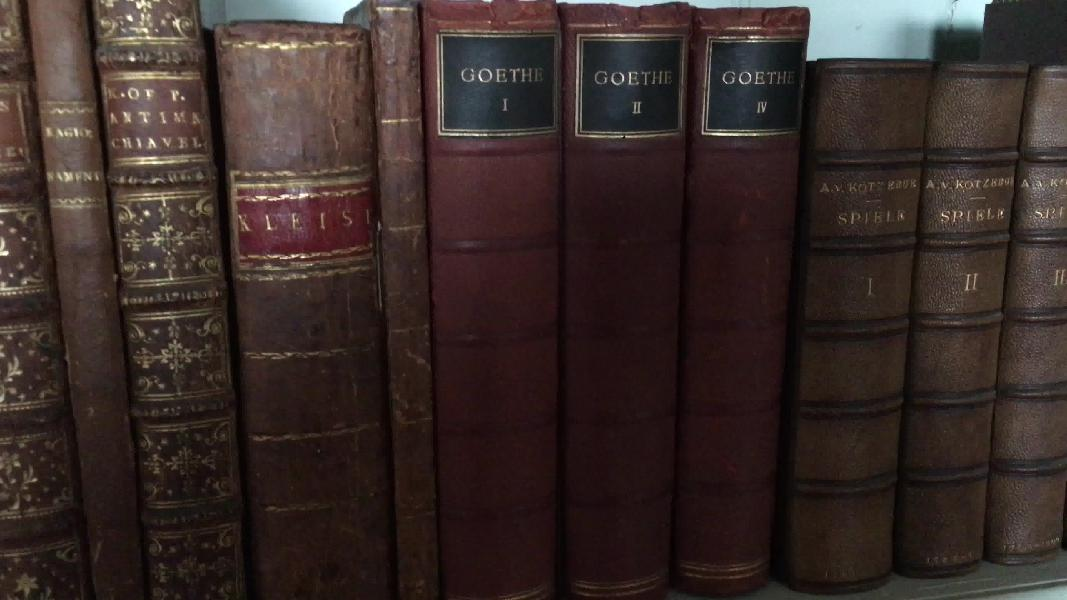Aa6-10: (361, 3, 447, 600)
Aa6-11_13: (416, 1, 801, 600)
Aa6-14_17: (797, 48, 1067, 600)
Aa6-7: (21, 4, 173, 600)
Aa6-8: (95, 6, 271, 600)
Aa6-9: (210, 18, 397, 600)
